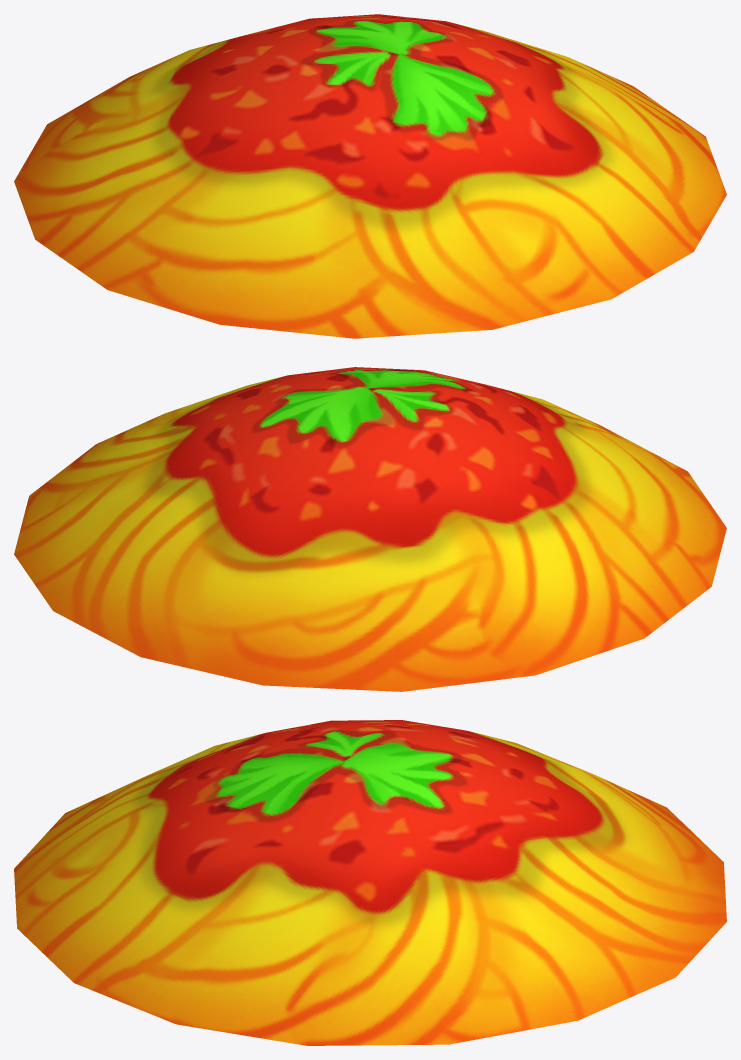
Rendered from pasta.FBX.
The picture shows the model from 3 angles, top to bottom: view 1: azimuth 30°, elevation 25°; view 2: azimuth 150°, elevation 25°; view 3: azimuth 270°, elevation 25°; orthographic projection.
Visible parts, largest first — view 1: Object236; view 2: Object236; view 3: Object236.
Part boxes in pixels (x1=…): Object236: x1=14, y1=14, x2=726, y2=338; Object236: x1=14, y1=367, x2=726, y2=691; Object236: x1=14, y1=720, x2=726, y2=1045.
Size of the model in its own units: 1.54 by 0.3494 by 1.54.
